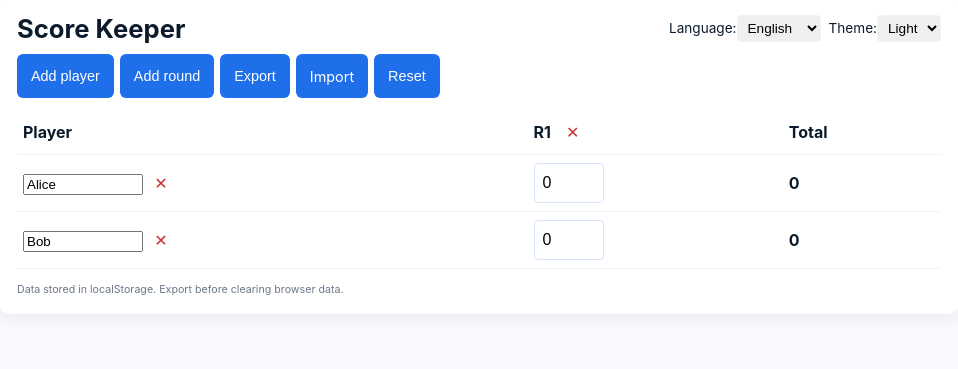
Test: App interactions › adds a player when "Add player" is clicked
The width and height of the screenshot is (958, 369).
Click the button "Add player" at {"x": 65, "y": 76}, box [17,54,114,98]
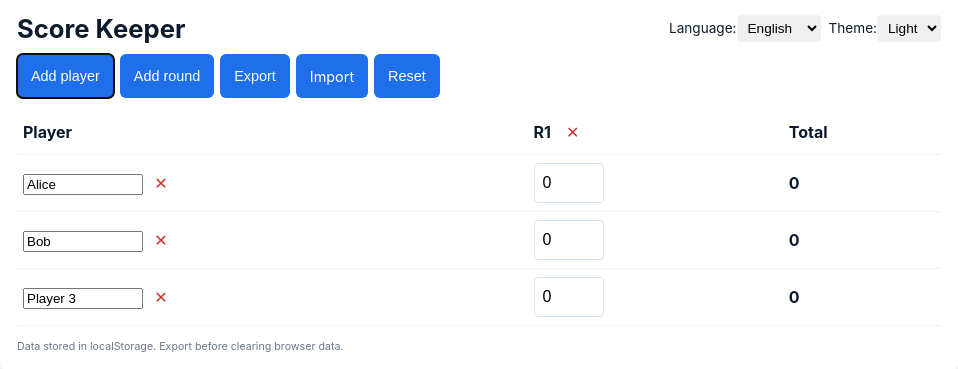
Expected: the number of rows is 4, [17,110,941,154]; [17,154,941,212]; [17,212,941,268]; [17,268,941,326]
